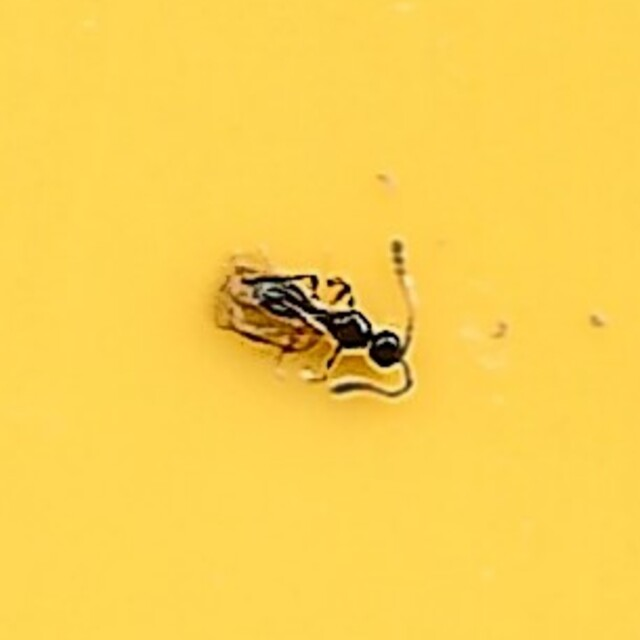Hymenoptera: (210, 229, 430, 411)
